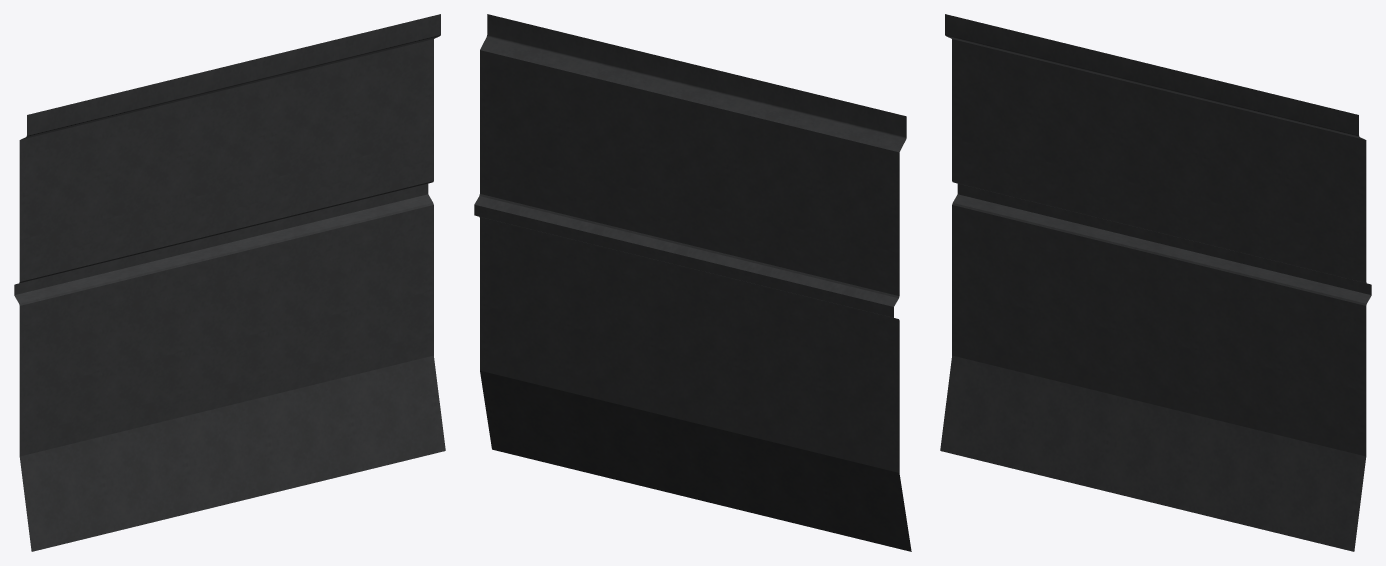
Rendered from M_Wall_Straight_10x10_v2.fbx.
3 views of the same model, side by side, from view 1: azimuth 30°, elevation 25°; view 2: azimuth 150°, elevation 25°; view 3: azimuth 330°, elevation 25° (orthographic).
Visible parts, largest first — view 1: Wall_Straight_10x10_v2; view 2: Wall_Straight_10x10_v2; view 3: Wall_Straight_10x10_v2.
Part boxes in pixels (x1=…): Wall_Straight_10x10_v2: x1=14, y1=14, x2=445, y2=551; Wall_Straight_10x10_v2: x1=474, y1=14, x2=911, y2=551; Wall_Straight_10x10_v2: x1=940, y1=14, x2=1371, y2=551.
Size of the model in its own units: 1000 by 1000 by 73.02.
